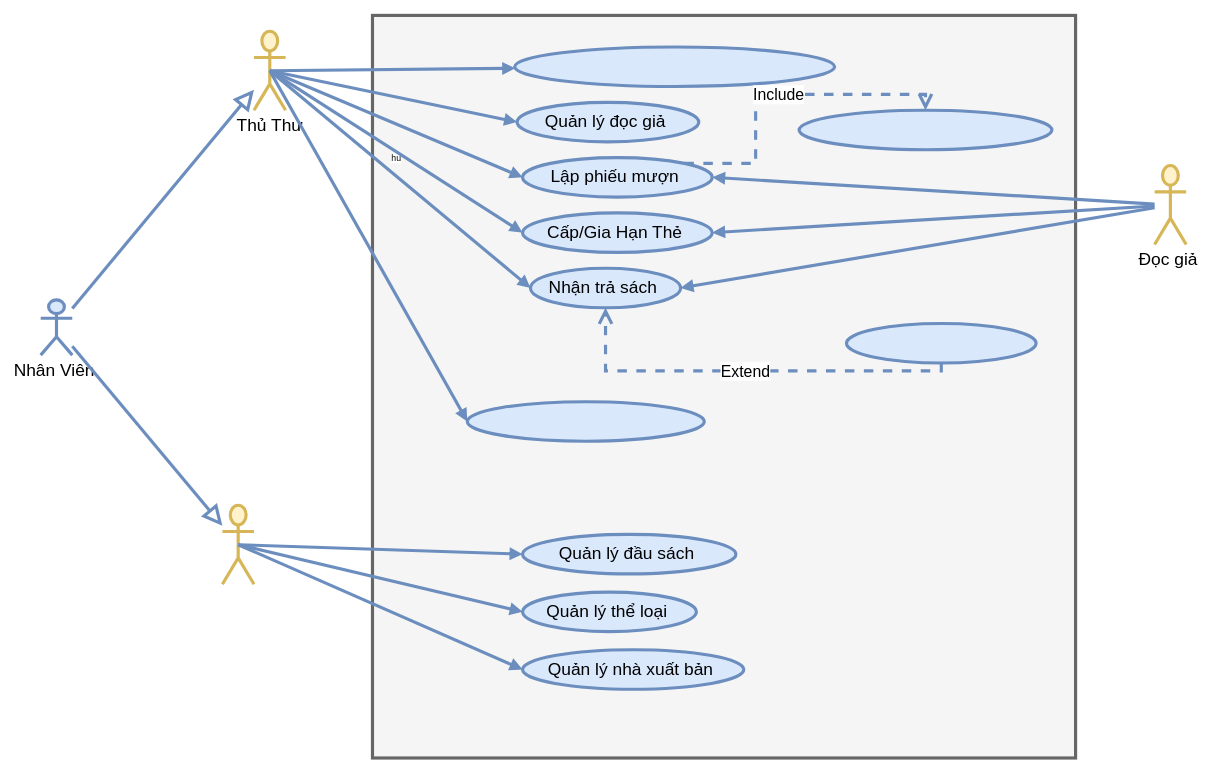
Some shapes in this 1216 by 773 pixel diagram are drawn without their labels. The centre of each missing label's shape, as x and y in pixels:
"Kiểm tra điều kiện mượn" goes at point (925, 129).
"Lập phiếu phạt" goes at point (941, 343).
"Nhân viên quản lý sách" goes at point (237, 544).
"Quản lý thông tin nhân viên" goes at point (674, 66).
"Thống kê hàng tháng" goes at point (585, 421).
